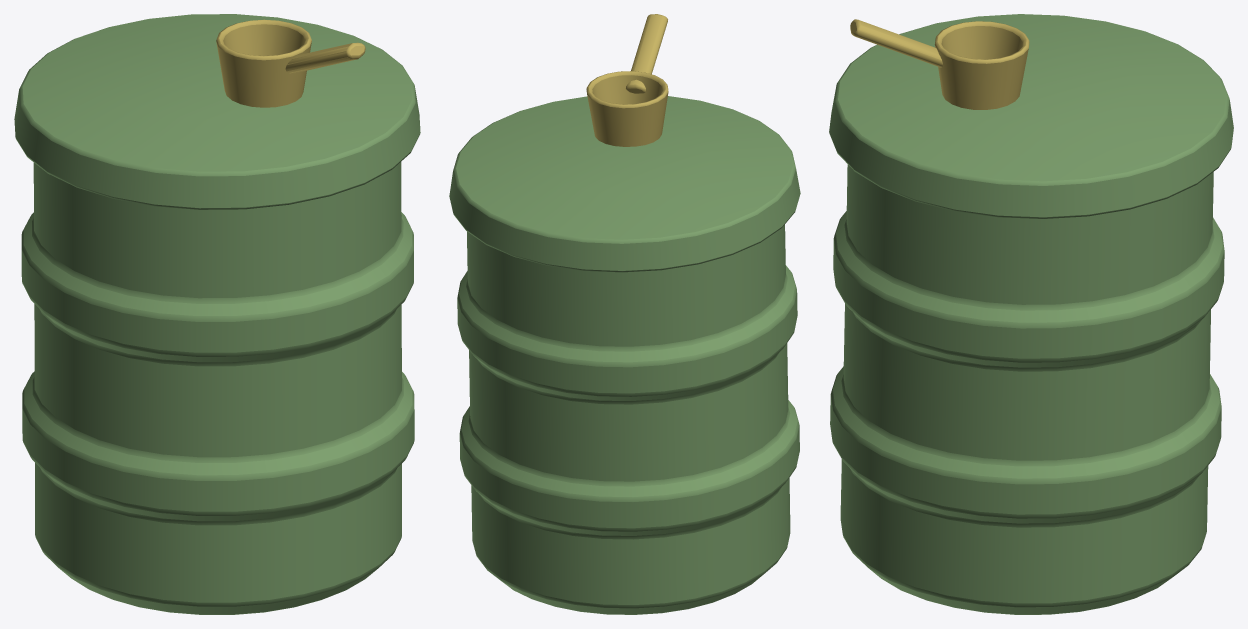
The model's file is pg_water_drum_4.glb.
3 renders of one model, left to right at view 1: azimuth 30°, elevation 25°; view 2: azimuth 150°, elevation 25°; view 3: azimuth 270°, elevation 25°, orthographic. The views are drawn at different scales.
Parts seen in each view (by area): view 1: pg_water_drum_4_pg_plastic; view 2: pg_water_drum_4_pg_plastic; view 3: pg_water_drum_4_pg_plastic.
Part boxes in pixels (x1=…): pg_water_drum_4_pg_plastic: x1=14, y1=14, x2=420, y2=614; pg_water_drum_4_pg_plastic: x1=449, y1=14, x2=800, y2=614; pg_water_drum_4_pg_plastic: x1=829, y1=14, x2=1233, y2=614.
Size of the model in its own units: 0.7149 by 1.08 by 0.7148.
